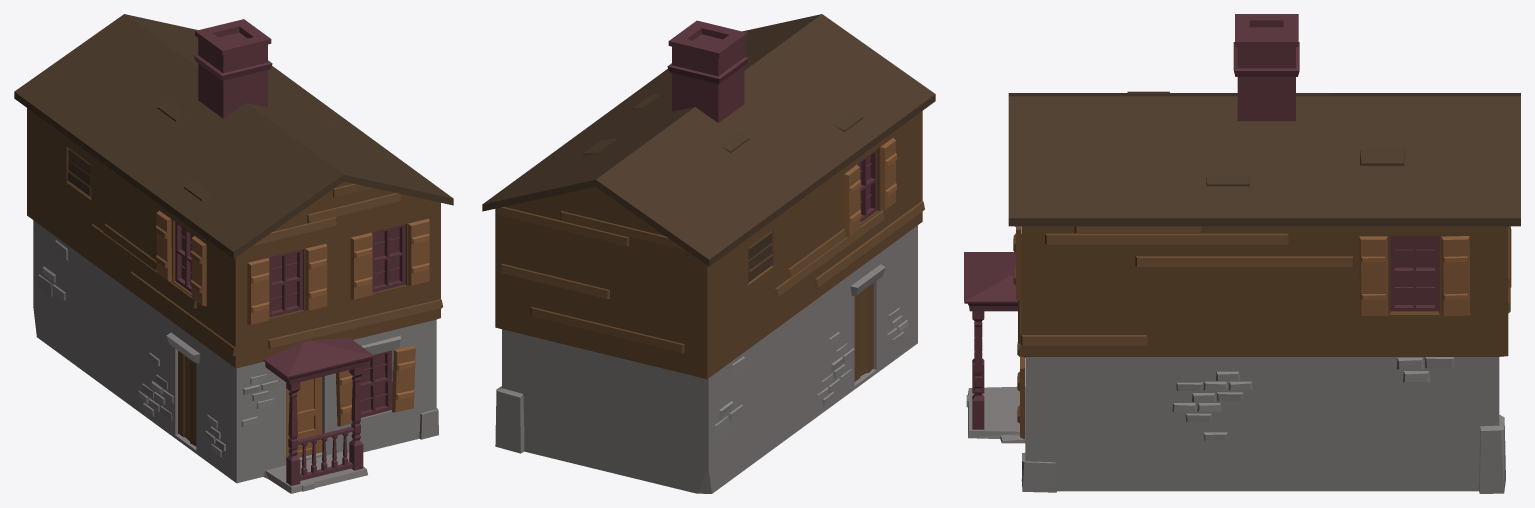
File: house-pirate-new.fbx
The picture shows the model from 3 angles, left to right: view 1: azimuth 30°, elevation 25°; view 2: azimuth 150°, elevation 25°; view 3: azimuth 270°, elevation 25°; orthographic projection. The views are drawn at different scales.
Visible parts, largest first — view 1: house-pirate-new; view 2: house-pirate-new; view 3: house-pirate-new.
Part boxes in pixels (bbox=[...]): house-pirate-new: bbox=[14, 14, 453, 493]; house-pirate-new: bbox=[482, 14, 935, 493]; house-pirate-new: bbox=[964, 14, 1520, 493].
Bounding box in the file's own units: 5.68 × 8.59 × 10.67.
